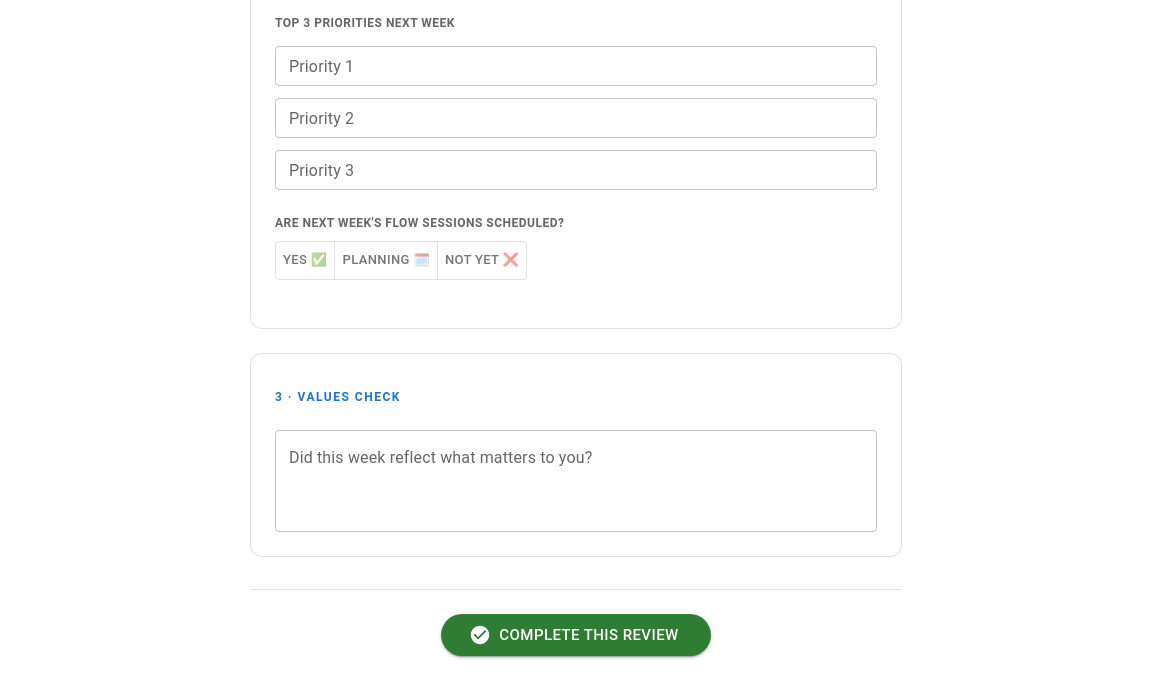
Scenario: WeeklyReview — complete review › hides Complete button and shows Completed chip after completion
The image size is (1152, 688).
(page scrolled)
Click the button "Complete this review". click: (576, 635)
box: [441,614,711,656]
(page scrolled)
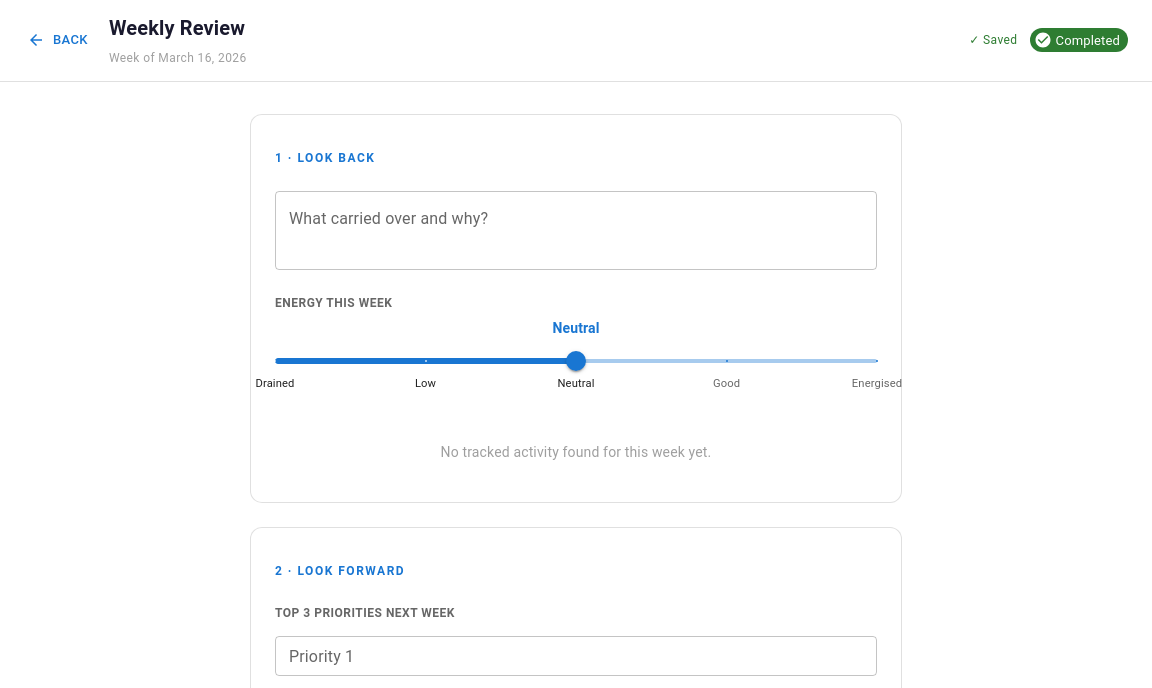
Result: the text "Completed" is shown at [1056,33,1120,48]
Result: the button "Complete this review" is gone
